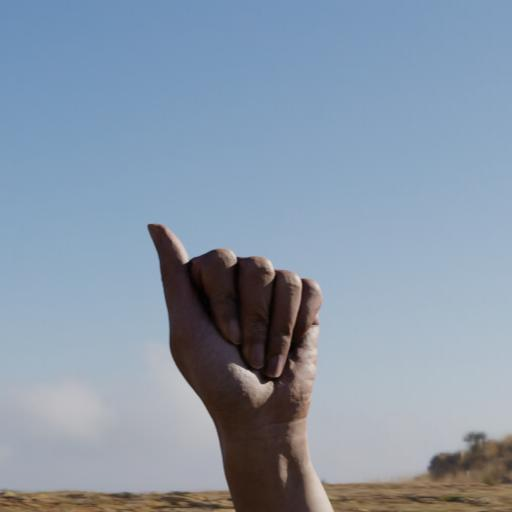A: (138, 220, 330, 414)
